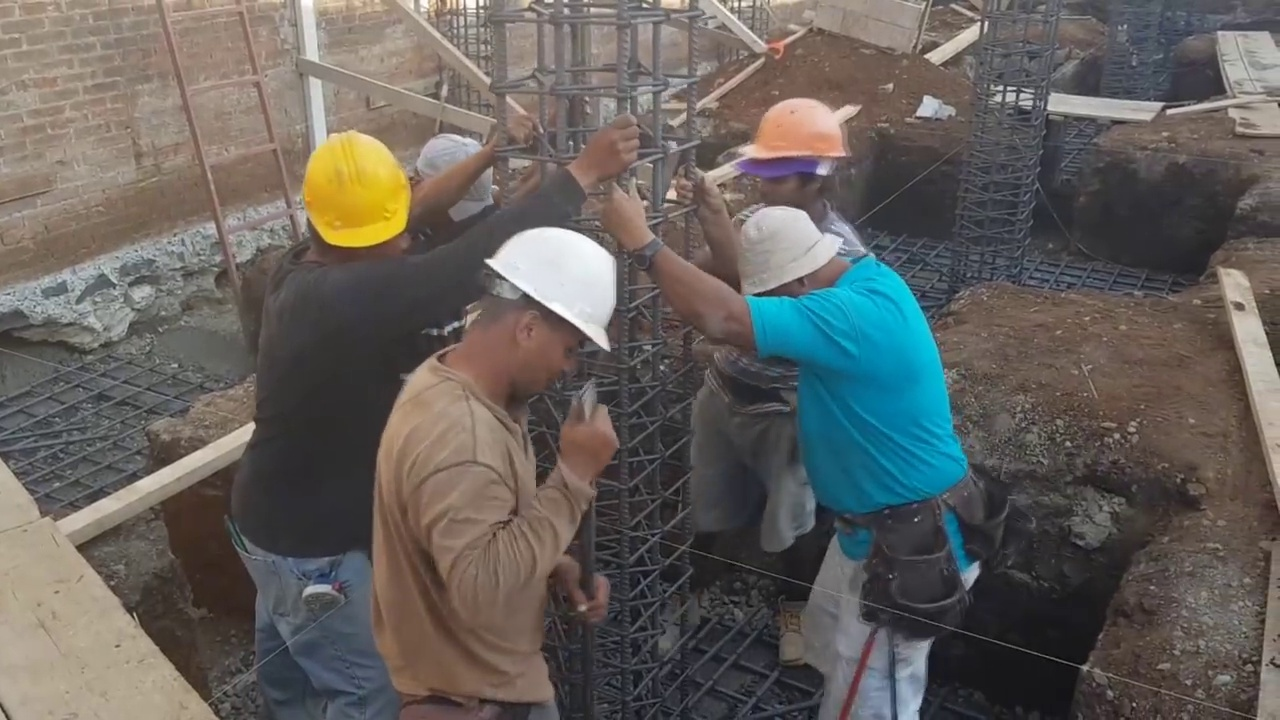helmet: (479, 226, 614, 354), (298, 130, 410, 252), (735, 89, 853, 164)
helmet-off: (737, 208, 856, 299), (408, 128, 492, 250)
helmet-on: (427, 228, 618, 416), (736, 92, 856, 215)
person: (242, 128, 638, 718), (596, 160, 973, 720), (365, 223, 648, 714), (661, 89, 859, 683)
